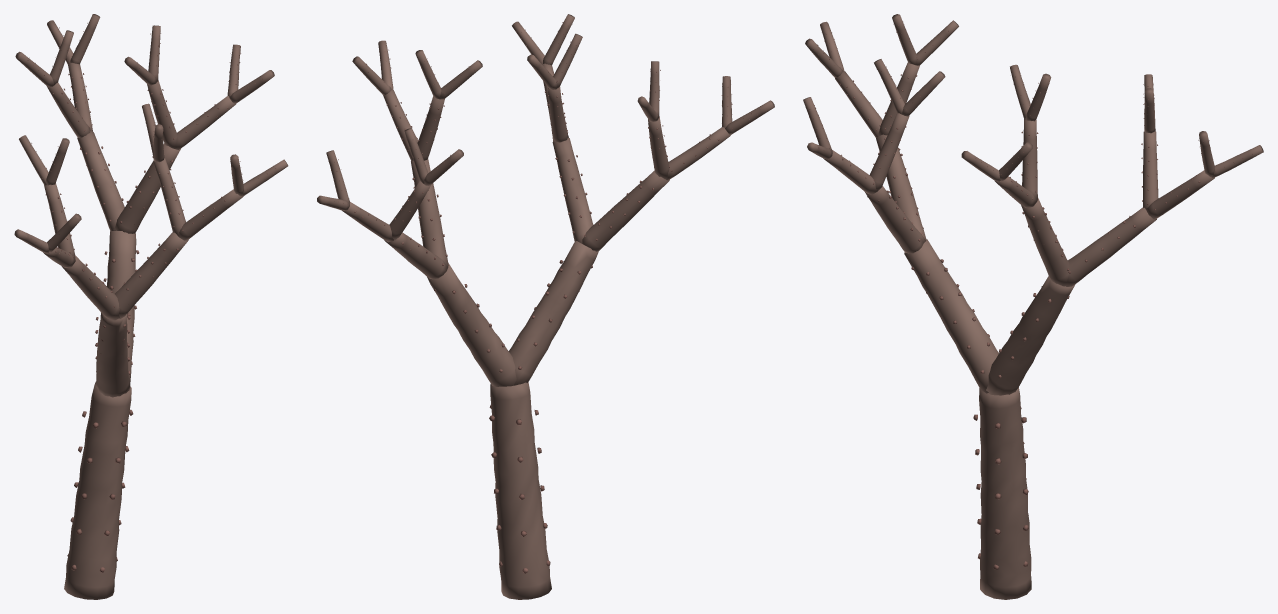
Rendered from branching-tabulate-coral-v2.lod1.glb.
3 views of the same model, side by side, from view 1: azimuth 30°, elevation 25°; view 2: azimuth 150°, elevation 25°; view 3: azimuth 270°, elevation 25° (orthographic). The views are drawn at different scales.
Parts seen in each view (by area): view 1: branching-tabulate-coral-v2; view 2: branching-tabulate-coral-v2; view 3: branching-tabulate-coral-v2.
Boxes of the visible parts, bbox=[...] form: branching-tabulate-coral-v2: bbox=[14, 14, 288, 599]; branching-tabulate-coral-v2: bbox=[317, 14, 774, 599]; branching-tabulate-coral-v2: bbox=[803, 14, 1263, 599].
Bounding box in the file's own units: 0.093 × 0.1448 × 0.1083.
